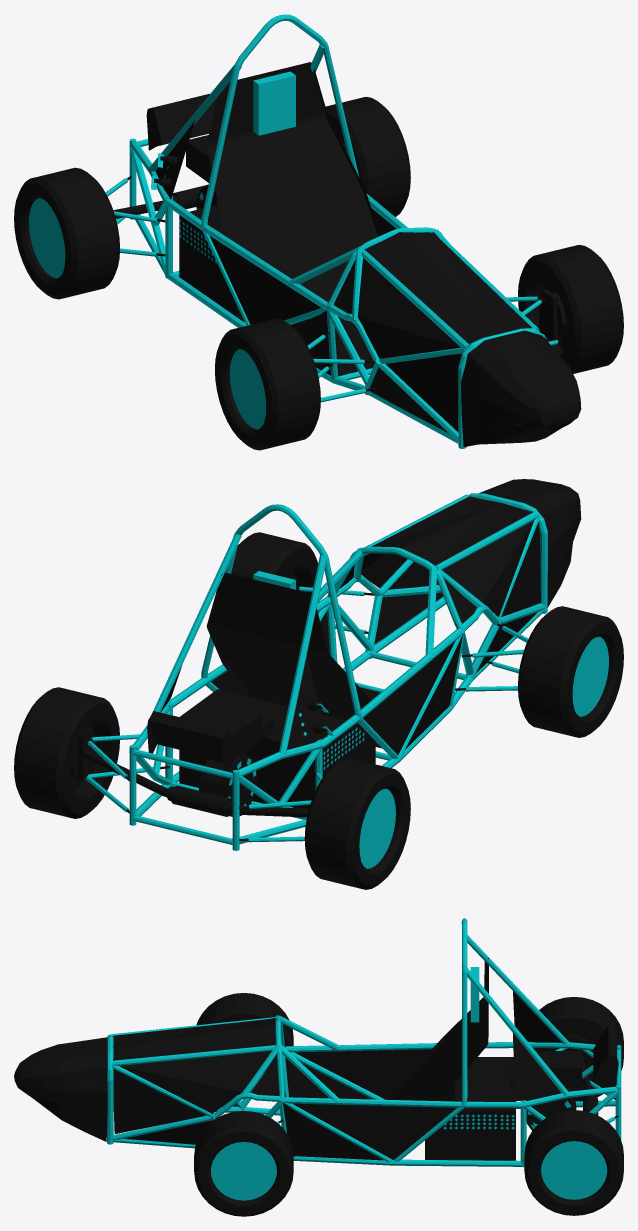
Rendered from car.obj.
The picture shows the model from 3 angles, top to bottom: view 1: azimuth 30°, elevation 25°; view 2: azimuth 150°, elevation 25°; view 3: azimuth 270°, elevation 25°; orthographic projection. The views are drawn at different scales.
Visible parts, largest first — view 1: Cylinder.001; view 2: Cylinder.001; view 3: Cylinder.001.
Boxes of the visible parts, x1,y1,x2,y2 form: Cylinder.001: [14, 14, 623, 450]; Cylinder.001: [14, 479, 623, 889]; Cylinder.001: [14, 918, 623, 1216].
Bounding box in the file's own units: 2.96 × 2.33 × 5.57.
